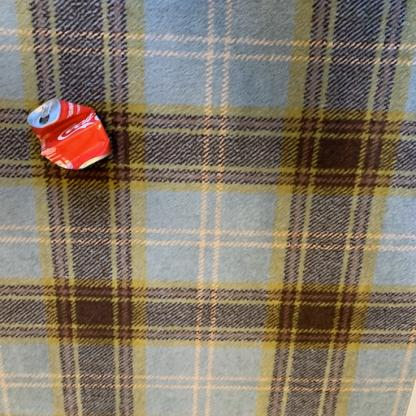trash: (28, 96, 118, 174)
